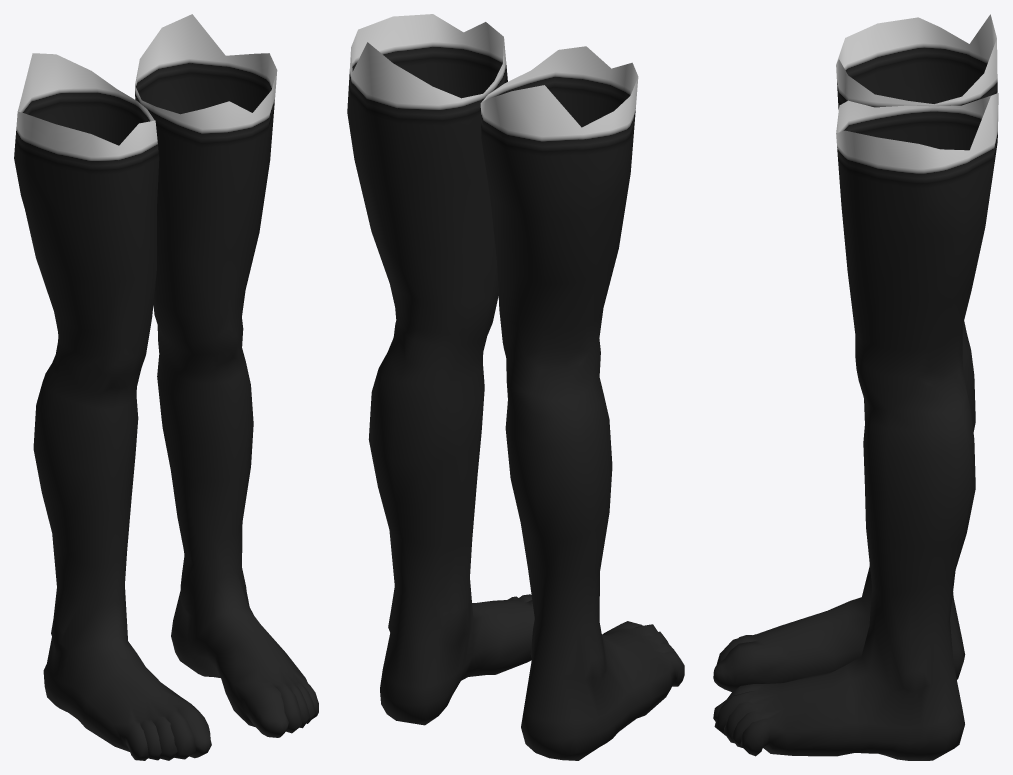
File: socks1.fbx
3 renders of one model, left to right at view 1: azimuth 30°, elevation 25°; view 2: azimuth 150°, elevation 25°; view 3: azimuth 270°, elevation 25°, orthographic. The views are drawn at different scales.
Parts seen in each view (by area): view 1: カスタム少女_mesh; view 2: カスタム少女_mesh; view 3: カスタム少女_mesh.
Part boxes in pixels (x1=…): カスタム少女_mesh: x1=14, y1=14, x2=318, y2=760; カスタム少女_mesh: x1=347, y1=14, x2=684, y2=760; カスタム少女_mesh: x1=713, y1=14, x2=998, y2=760.
Size of the model in its own units: 374 by 919 by 357.
1 material, 1 textured.
